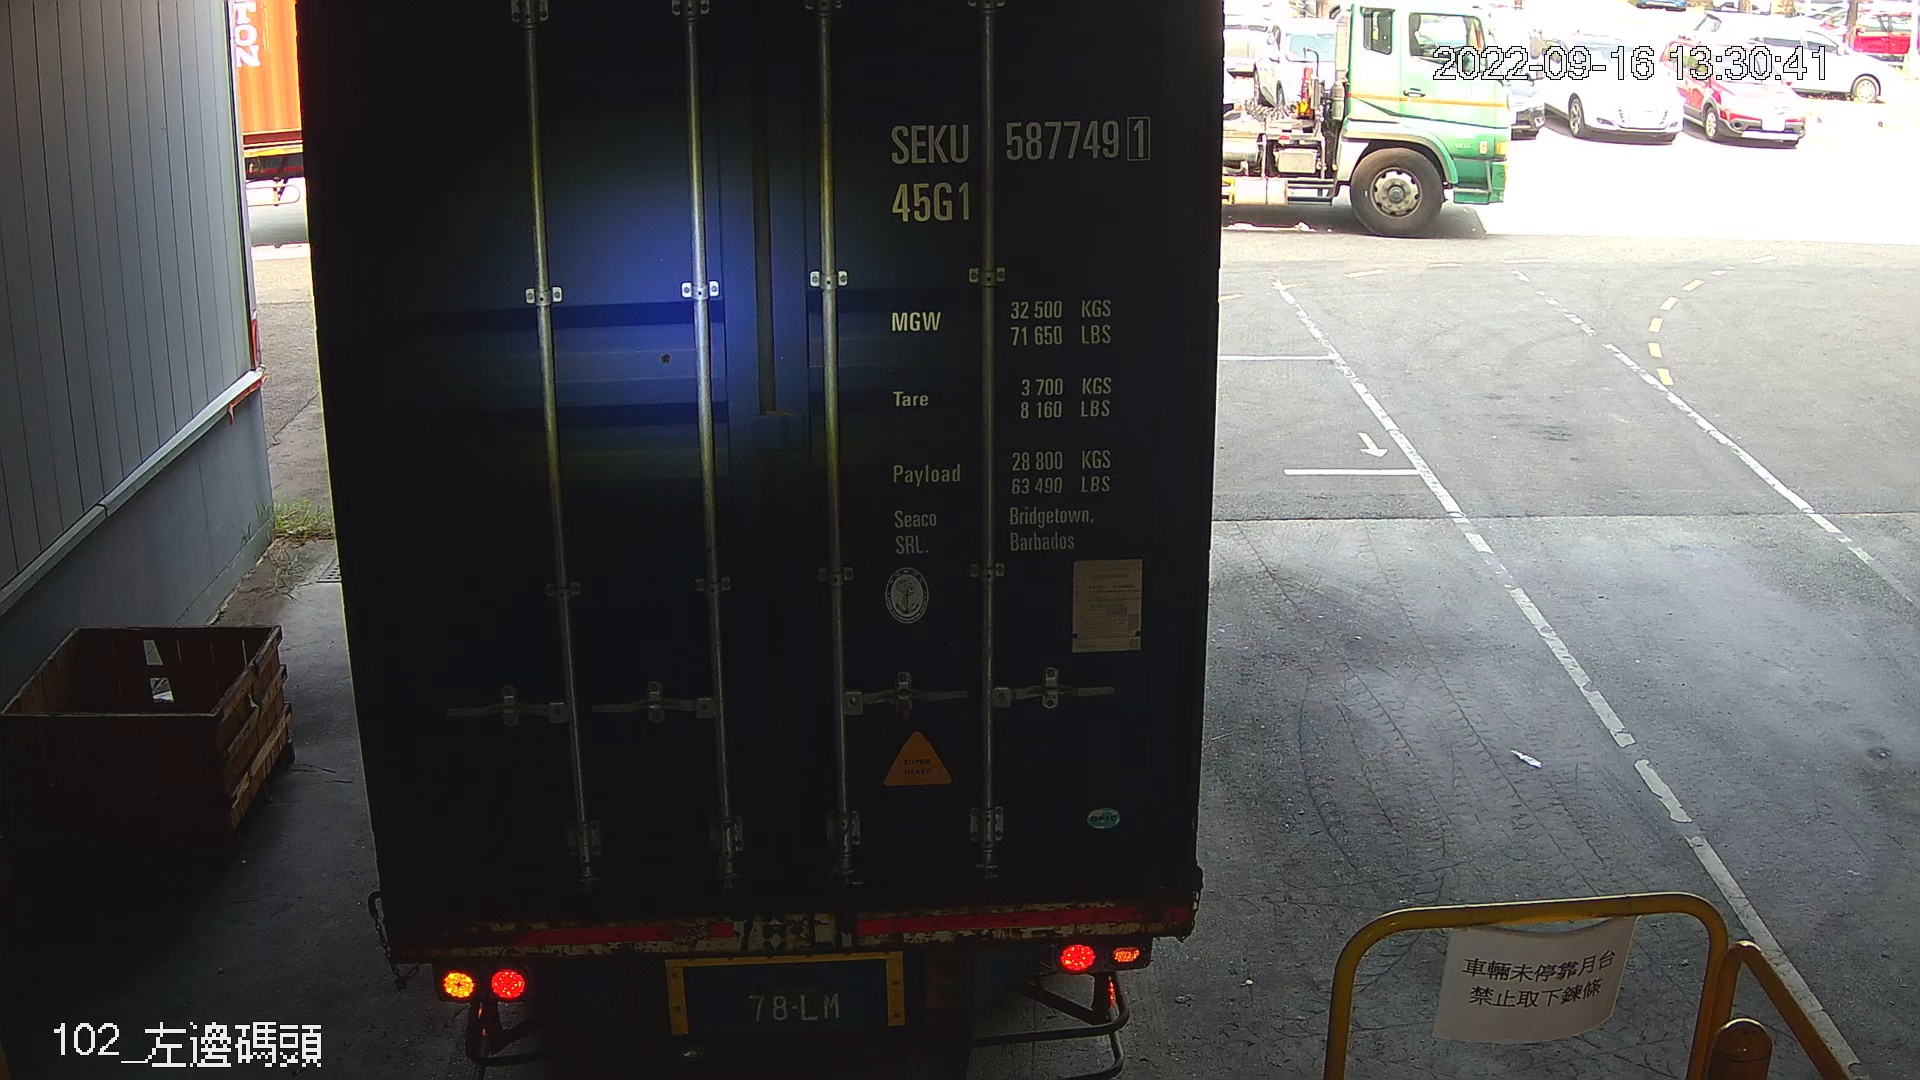container: (876, 105, 1162, 239)
